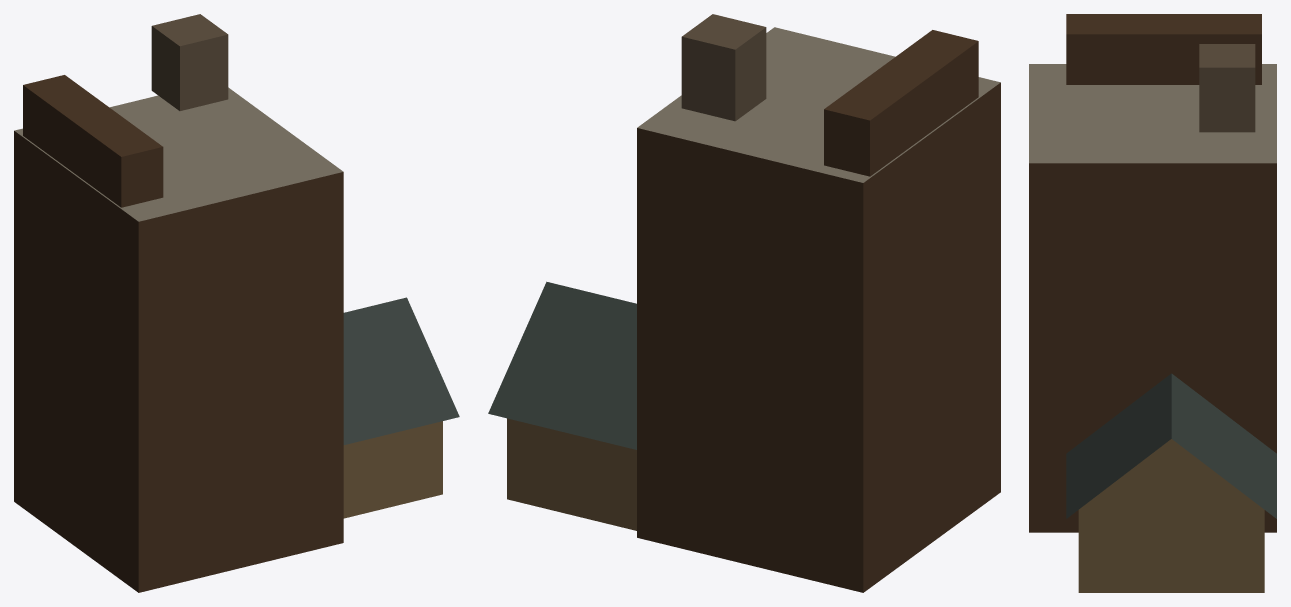
File: rw-lookout-house.towns-v1.lod2.glb
3 views of the same model, side by side, from view 1: azimuth 30°, elevation 25°; view 2: azimuth 150°, elevation 25°; view 3: azimuth 270°, elevation 25° (orthographic). The views are drawn at different scales.
Parts seen in each view (by area): view 1: rw-lookout-house; view 2: rw-lookout-house; view 3: rw-lookout-house.
Boxes of the visible parts, x1=… form: rw-lookout-house: x1=14, y1=14, x2=459, y2=592; rw-lookout-house: x1=488, y1=14, x2=1000, y2=592; rw-lookout-house: x1=1029, y1=14, x2=1276, y2=592.
Size of the model in its own units: 12.6 by 16.05 by 8.
